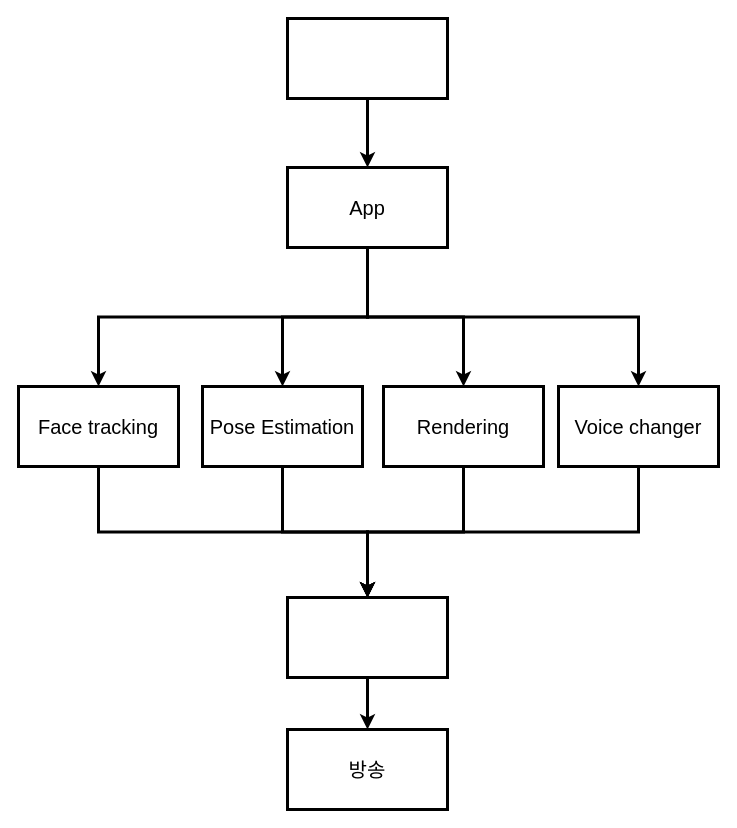
Image size: 737x828. Some labels were removed from this diagram. The box of each missing label's shape, as (x1, y1, x2, y2) in pixels:
User: (286, 16, 448, 100)
Virtual charater: (286, 596, 448, 678)
